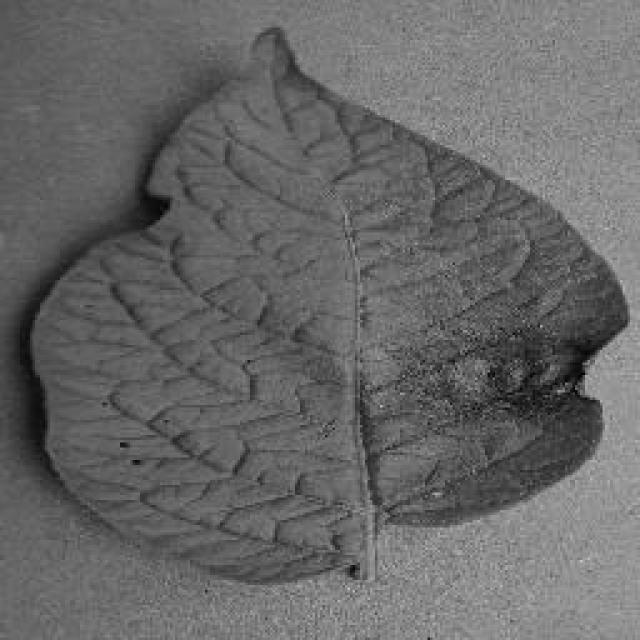Potato: (25, 23, 630, 585)
